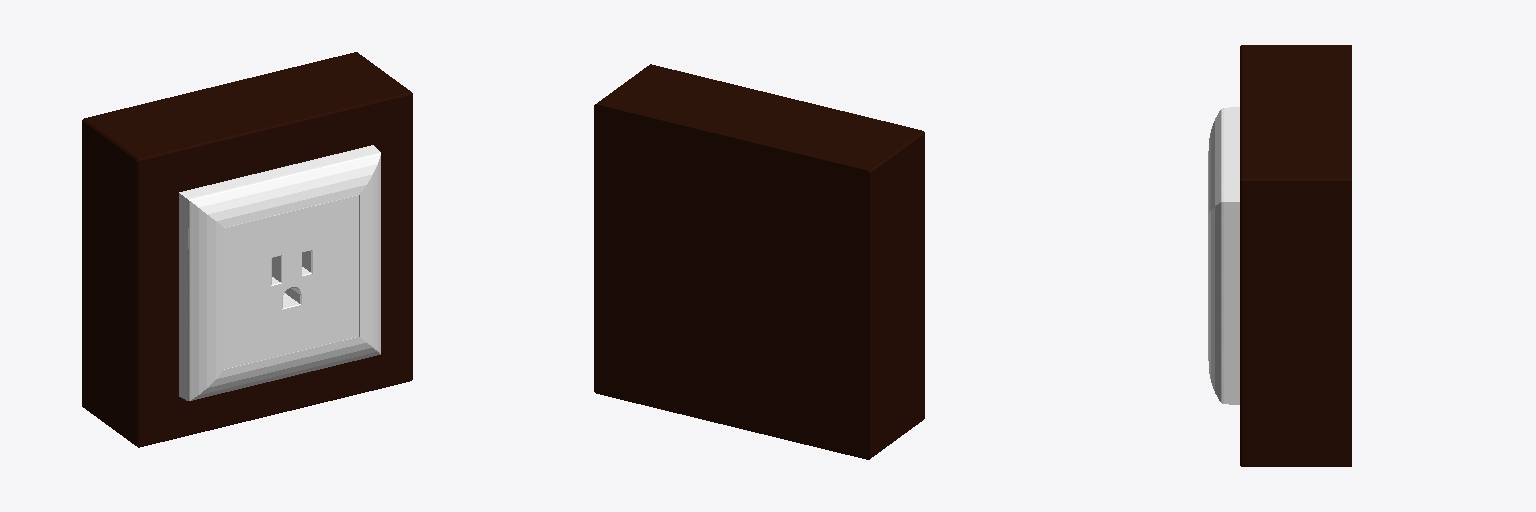
The model's file is Socket_US.obj.
The picture shows the model from 3 angles: view 1: azimuth 30°, elevation 25°; view 2: azimuth 150°, elevation 25°; view 3: azimuth 270°, elevation 25°; orthographic projection.
Visible parts, largest first — view 1: Circle.005_Socket_US, Gira_021104:Abdeckrahmen_1f_Standard_55_Reinweiß_m:516866.003_me; view 2: Circle.005_Socket_US; view 3: Circle.005_Socket_US, Gira_021104:Abdeckrahmen_1f_Standard_55_Reinweiß_m:516866.003_me.
Part boxes in pixels (x1,y1,x2,y2): Circle.005_Socket_US: (82, 52, 412, 447); Gira_021104:Abdeckrahmen_1f_Standard_55_Reinweiß_m:516866.003_me: (179, 145, 380, 400); Circle.005_Socket_US: (594, 64, 924, 459); Circle.005_Socket_US: (1240, 45, 1351, 466); Gira_021104:Abdeckrahmen_1f_Standard_55_Reinweiß_m:516866.003_me: (1208, 107, 1239, 404).
Size of the model in its own units: 0.1145 by 0.1145 by 0.0514.